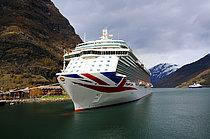Ship: (56, 27, 160, 116)
